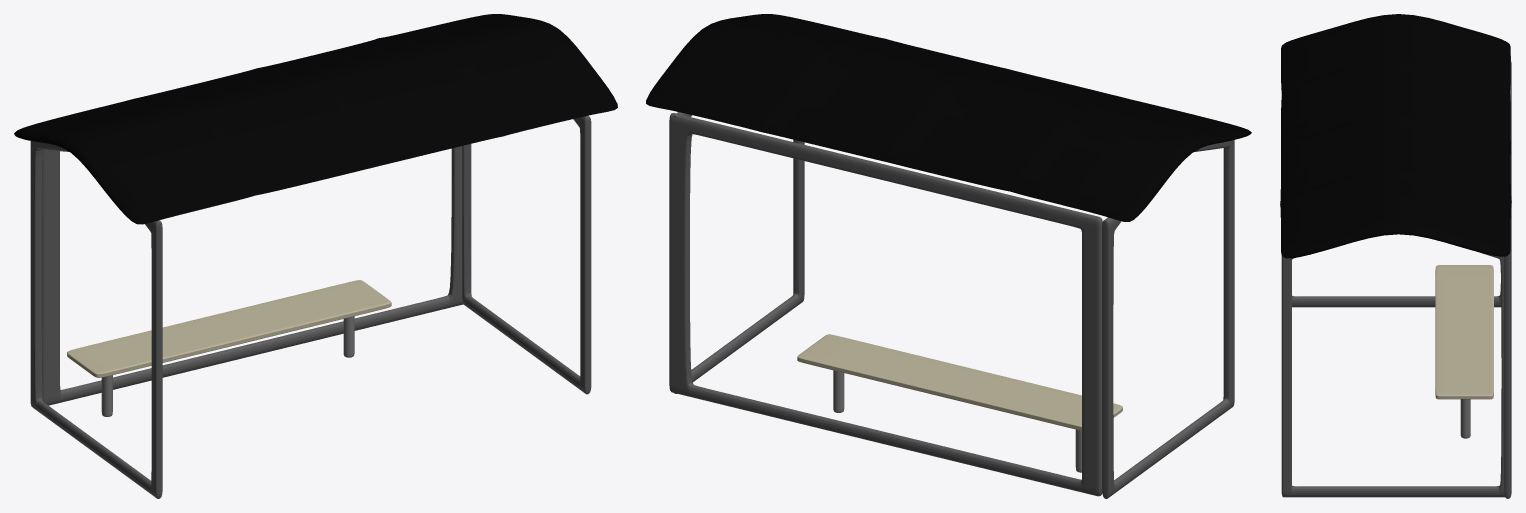
File: BusStop.fbx
3 views of the same model, side by side, from view 1: azimuth 30°, elevation 25°; view 2: azimuth 150°, elevation 25°; view 3: azimuth 270°, elevation 25° (orthographic). The views are drawn at different scales.
Visible parts, largest first — view 1: Cube.003, Cube, Cube.004, Cube.005, Cube.001; view 2: Cube.003, Cube, Cube.004, Cube.005, Cube.001; view 3: Cube.003, Cube.004, Cube.001, Cube, Cube.005.
Boxes of the visible parts, <box> form: Cube.003: <box>14,14,617,224</box>; Cube: <box>42,144,471,405</box>; Cube.004: <box>67,280,391,416</box>; Cube.005: <box>30,141,162,498</box>; Cube.001: <box>462,116,591,394</box>; Cube.003: <box>646,14,1251,221</box>; Cube: <box>669,113,1102,496</box>; Cube.004: <box>797,334,1122,472</box>; Cube.005: <box>1102,140,1234,498</box>; Cube.001: <box>673,112,804,393</box>; Cube.003: <box>1280,14,1511,258</box>; Cube.004: <box>1435,265,1493,438</box>; Cube.001: <box>1281,246,1510,497</box>; Cube: <box>1504,60,1511,498</box>; Cube.005: <box>1281,56,1510,307</box>.
Bounding box in the file's own units: 921 × 573 × 415.
